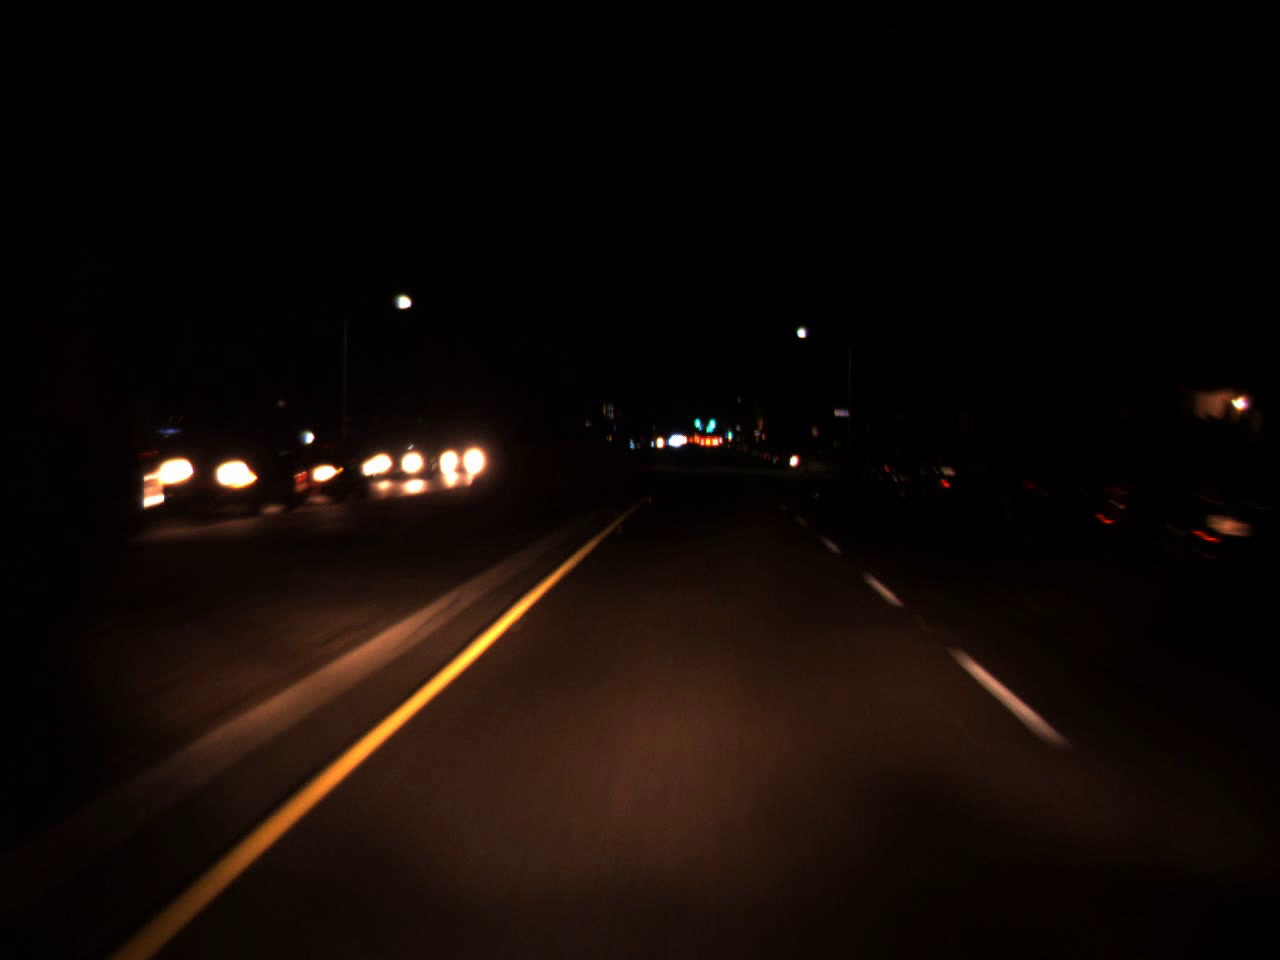go: (692, 409, 701, 430), (707, 411, 716, 429), (725, 426, 732, 438)
